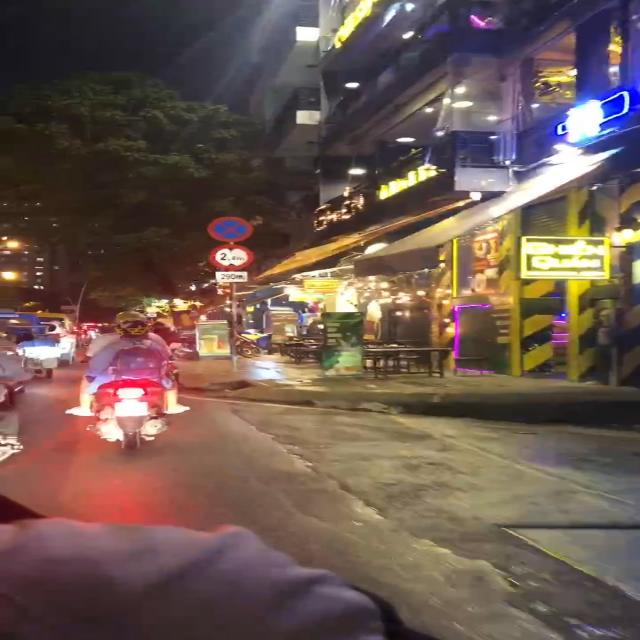Bien bao cam dung xe va do xe: (208, 216, 259, 243)
Bien bao han che chieu cao: (207, 243, 256, 270)
